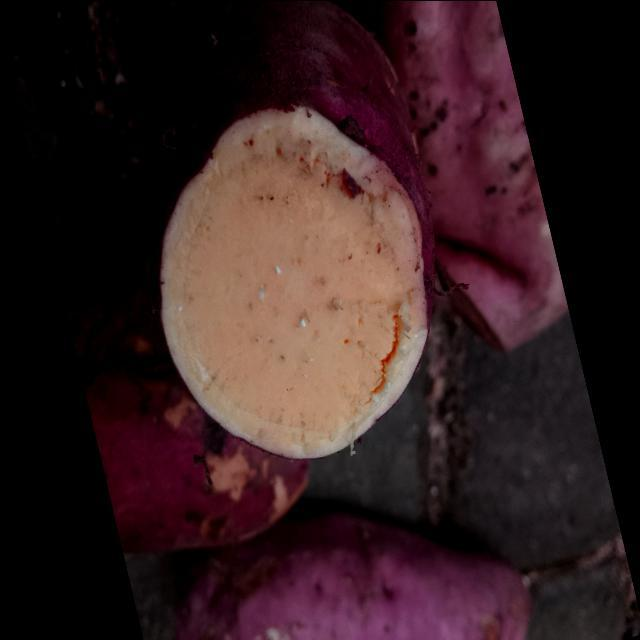Healthy Sweet Potato: (160, 107, 428, 457)
